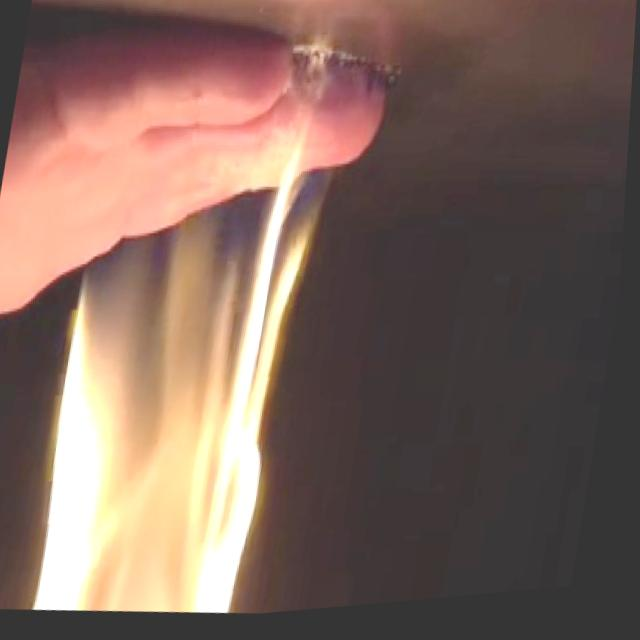Fire: (1, 125, 344, 638)
